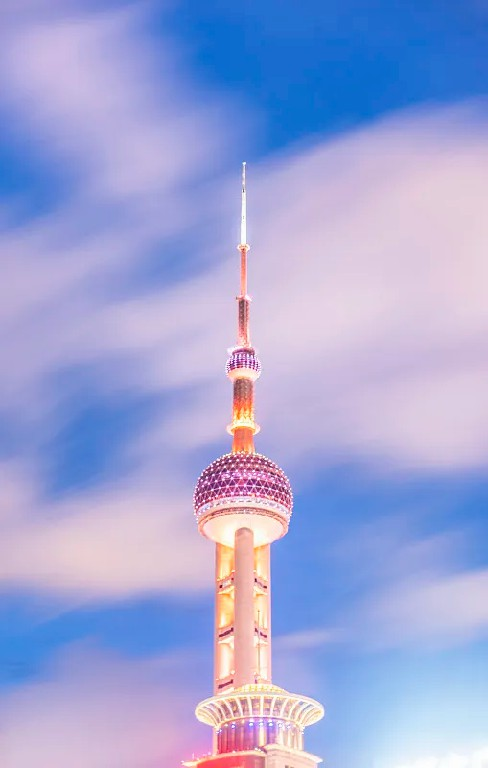Oriental: (184, 162, 324, 768)
